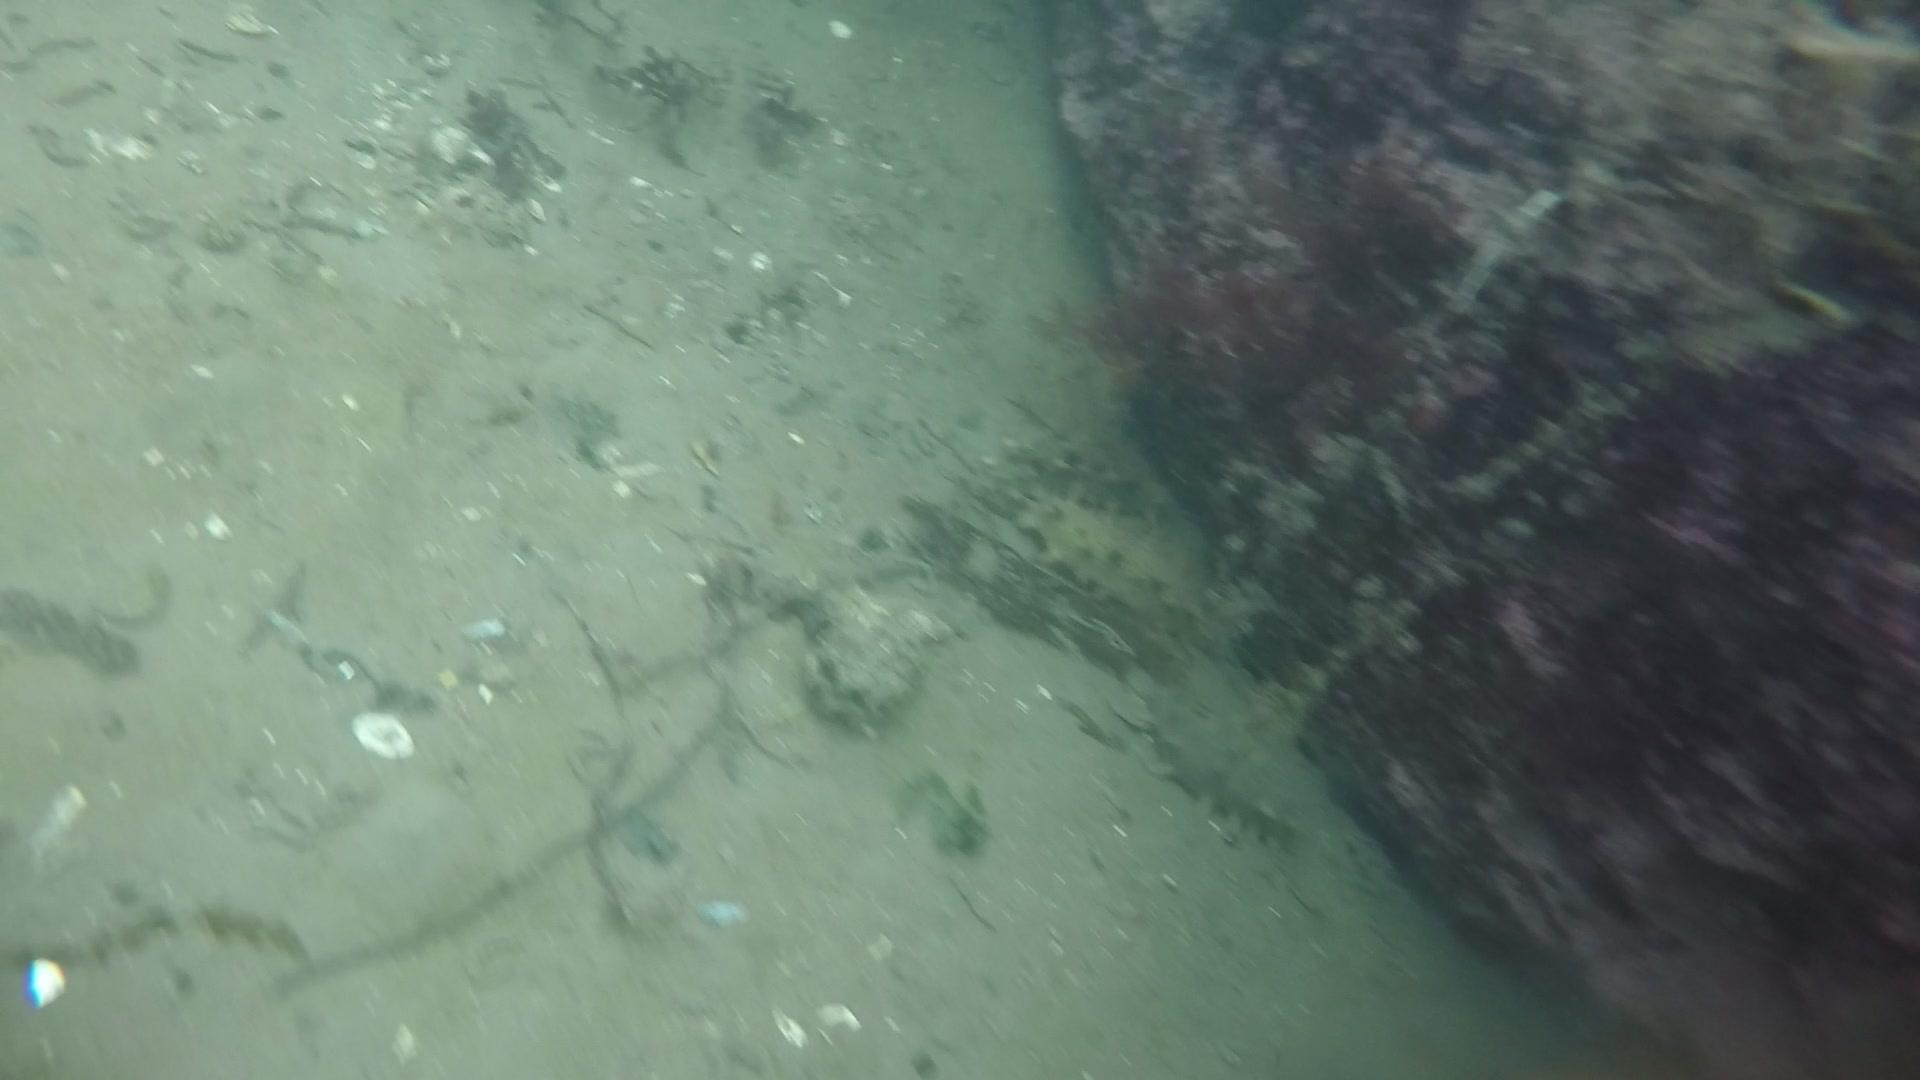holothurian: (1013, 493, 1222, 651), (1138, 695, 1315, 855), (978, 429, 1172, 524)
